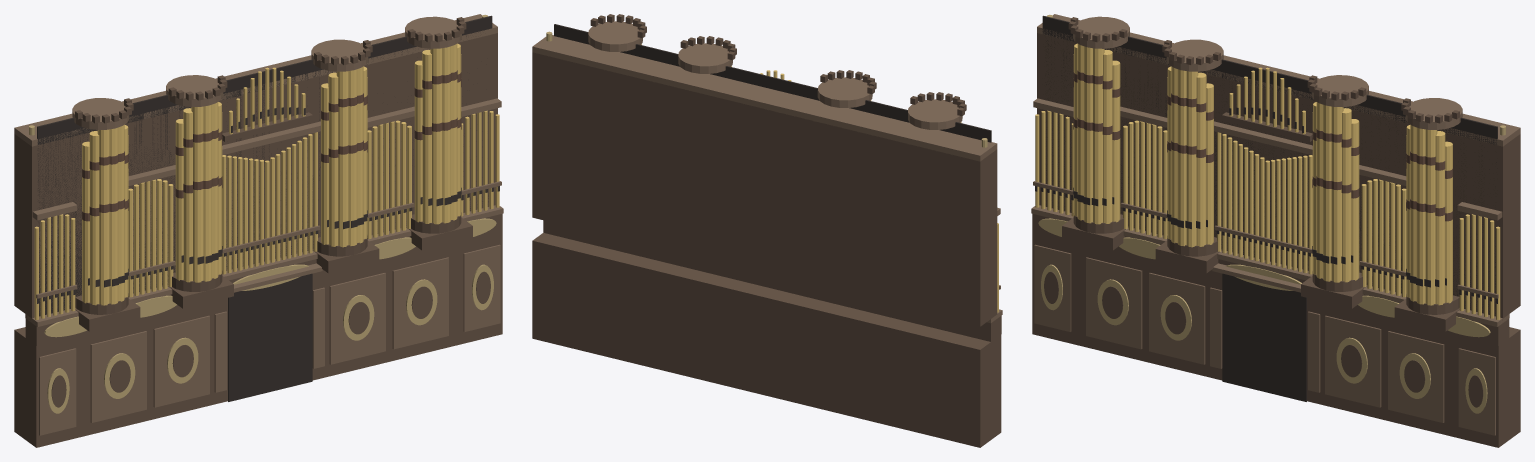
The model's file is sy-concert-organ-front.glb.
3 renders of one model, left to right at view 1: azimuth 30°, elevation 25°; view 2: azimuth 150°, elevation 25°; view 3: azimuth 330°, elevation 25°, orthographic. The views are drawn at different scales.
Parts seen in each view (by area): view 1: CarcassUpper, CarcassBase, ConsoleRecess, PipeBackdrop, Cheek-1, BasePanel2, BasePanel3, BasePanel4, BasePanel1, TopRail, BasePanel0, BasePanel5 (+92 smaller); view 2: CarcassUpper, CarcassBase, TopRail, ImpostBand, PipeBackdrop, Cheek-1, Cheek1, Tower1Cornice, Tower2Cornice, Tower0Cornice, Tower3Cornice; view 3: CarcassUpper, CarcassBase, ConsoleRecess, PipeBackdrop, BasePanel2, BasePanel3, BasePanel1, BasePanel4, Cheek1, TopRail, BasePanel5, BasePanel0 (+92 smaller).
Boxes of the visible parts, x1,y1,x2,y2 form: CarcassUpper: [32, 33, 497, 318]; CarcassBase: [14, 232, 502, 447]; ConsoleRecess: [228, 273, 312, 401]; PipeBackdrop: [37, 15, 492, 316]; Cheek-1: [14, 134, 44, 318]; BasePanel2: [153, 315, 209, 407]; BasePanel3: [329, 273, 385, 364]; BasePanel4: [392, 257, 448, 349]; BasePanel1: [90, 331, 146, 422]; TopRail: [14, 14, 497, 146]; BasePanel0: [39, 348, 76, 435]; BasePanel5: [463, 244, 500, 331]; CarcassUpper: [532, 52, 997, 326]; CarcassBase: [532, 233, 1001, 447]; TopRail: [532, 35, 997, 161]; ImpostBand: [543, 220, 1001, 341]; PipeBackdrop: [554, 24, 991, 142]; Cheek-1: [967, 149, 997, 326]; Cheek1: [532, 53, 544, 220]; Tower1Cornice: [817, 77, 872, 107]; Tower2Cornice: [678, 43, 732, 73]; Tower0Cornice: [908, 99, 962, 129]; Tower3Cornice: [588, 21, 642, 51]; CarcassUpper: [1037, 33, 1520, 318]; CarcassBase: [1032, 232, 1520, 447]; ConsoleRecess: [1222, 273, 1306, 401]; PipeBackdrop: [1042, 15, 1497, 315]; BasePanel2: [1149, 273, 1205, 364]; BasePanel3: [1325, 315, 1381, 407]; BasePanel1: [1086, 257, 1142, 349]; BasePanel4: [1388, 331, 1444, 422]; Cheek1: [1492, 134, 1520, 318]; TopRail: [1037, 14, 1520, 146]; BasePanel5: [1458, 348, 1495, 435]; BasePanel0: [1034, 244, 1071, 331].
Size of the model in its own units: 12.19 by 8.15 by 1.62.
